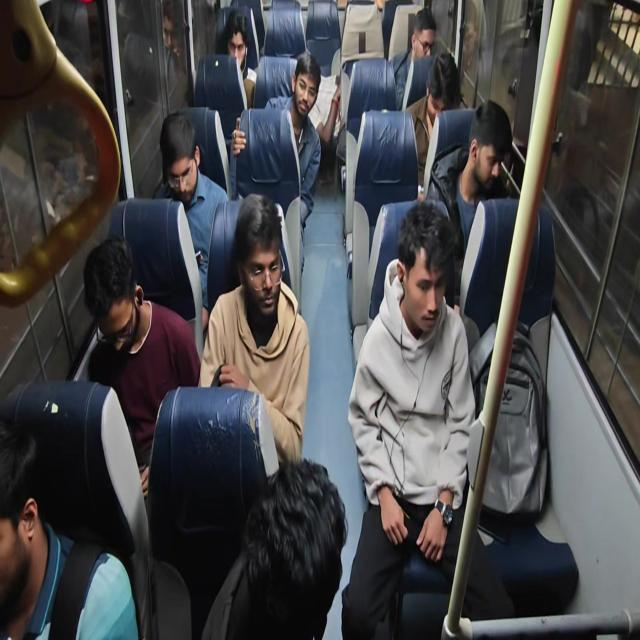person: (246, 450, 341, 632), (1, 410, 49, 628), (390, 192, 454, 340), (80, 232, 143, 360), (231, 190, 289, 318), (157, 110, 204, 218), (464, 98, 503, 212), (422, 49, 457, 124), (294, 54, 324, 127), (221, 8, 256, 70), (406, 6, 438, 64)
